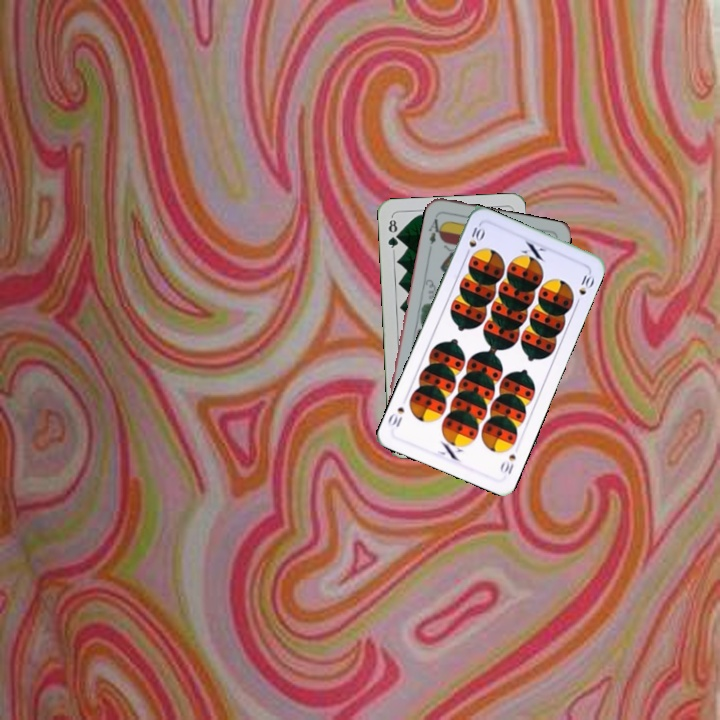EA: (424, 211, 446, 247)
G8: (384, 213, 401, 254)
S10: (461, 221, 487, 259), (501, 450, 518, 477)
